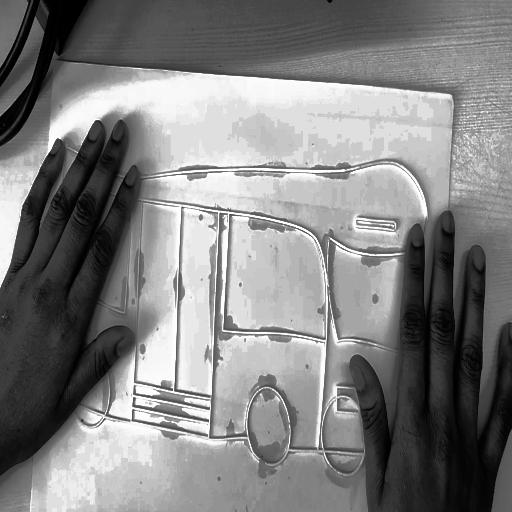bus: (40, 134, 443, 482)
top_left: (52, 59, 59, 71)
top_right: (450, 87, 457, 101)
